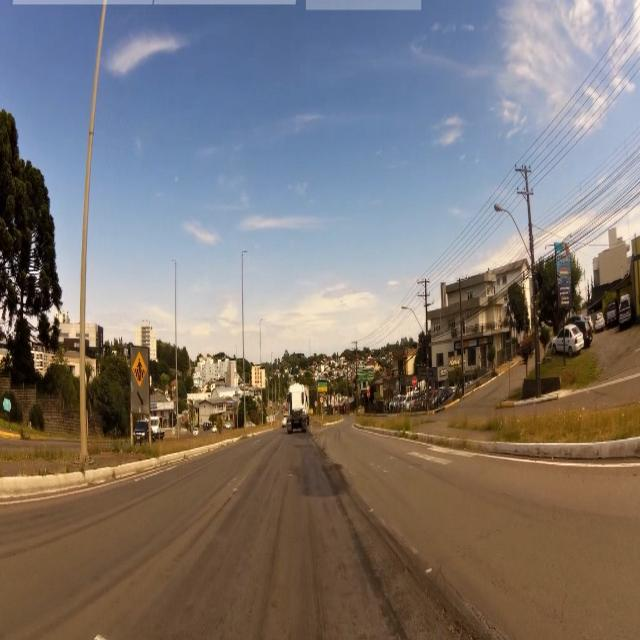A-32b: (130, 352, 149, 391)
